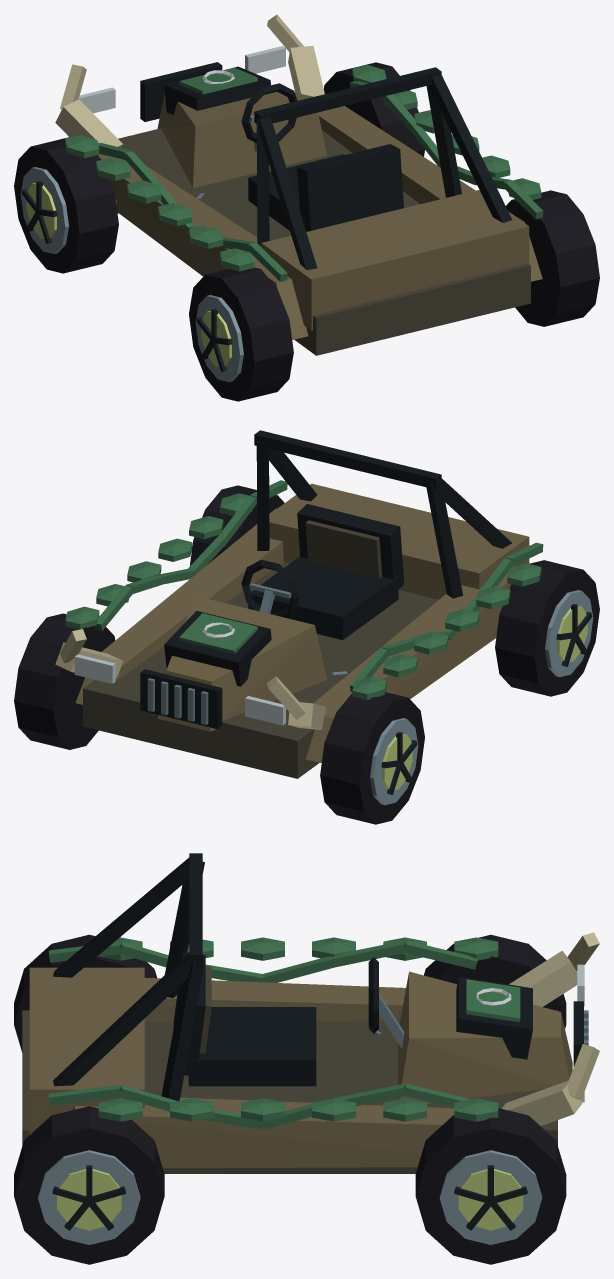
The model's file is kart.glb.
3 views of the same model, one above another, from view 1: azimuth 30°, elevation 25°; view 2: azimuth 150°, elevation 25°; view 3: azimuth 270°, elevation 25° (orthographic). The views are drawn at different scales.
Parts seen in each view (by area): view 1: identity-buggy-buggy-offroad-frame, wheel-rear-left, wheel-front-left, identity-buggy-motif-vines, identity-buggy-driver-cockpit, wheel-rear-right, identity-buggy-motif-tusks, identity-buggy-motif-scanner, wheel-front-right; view 2: identity-buggy-buggy-offroad-frame, identity-buggy-driver-cockpit, identity-buggy-motif-vines, wheel-front-left, wheel-rear-left, wheel-front-right, identity-buggy-motif-scanner, identity-buggy-motif-tusks, wheel-rear-right; view 3: identity-buggy-buggy-offroad-frame, wheel-rear-right, wheel-front-right, identity-buggy-motif-vines, identity-buggy-driver-cockpit, identity-buggy-motif-tusks, identity-buggy-motif-scanner, wheel-front-left, wheel-rear-left.
Boxes of the visible parts, x1,y1,x2,y2 form: identity-buggy-buggy-offroad-frame: (78, 46, 542, 355); wheel-rear-left: (189, 267, 293, 401); wheel-front-left: (14, 137, 118, 273); identity-buggy-motif-vines: (65, 65, 543, 281); identity-buggy-driver-cockpit: (241, 83, 403, 231); wheel-rear-right: (506, 190, 599, 326); identity-buggy-motif-tusks: (55, 14, 324, 155); identity-buggy-motif-scanner: (164, 66, 270, 114); wheel-front-right: (324, 62, 424, 156); identity-buggy-buggy-offroad-frame: (74, 430, 529, 778); identity-buggy-driver-cockpit: (241, 504, 404, 640); identity-buggy-motif-vines: (65, 480, 543, 699); wheel-front-left: (320, 692, 424, 824); wheel-rear-left: (495, 560, 599, 696); wheel-front-right: (14, 613, 115, 749); identity-buggy-motif-scanner: (164, 610, 271, 686); identity-buggy-motif-tusks: (55, 629, 325, 729); wheel-rear-right: (190, 485, 284, 565); identity-buggy-buggy-offroad-frame: (22, 853, 588, 1173); wheel-rear-right: (14, 1106, 164, 1264); wheel-front-right: (415, 1108, 566, 1264); identity-buggy-motif-vines: (49, 937, 498, 1129); identity-buggy-driver-cockpit: (173, 952, 404, 1086); identity-buggy-motif-tusks: (501, 932, 599, 1125); identity-buggy-motif-scanner: (456, 977, 532, 1059); wheel-front-left: (424, 934, 566, 1028); wheel-rear-left: (14, 934, 156, 1052).
Bounding box in the file's own units: 2.31 × 1.39 × 2.8.
